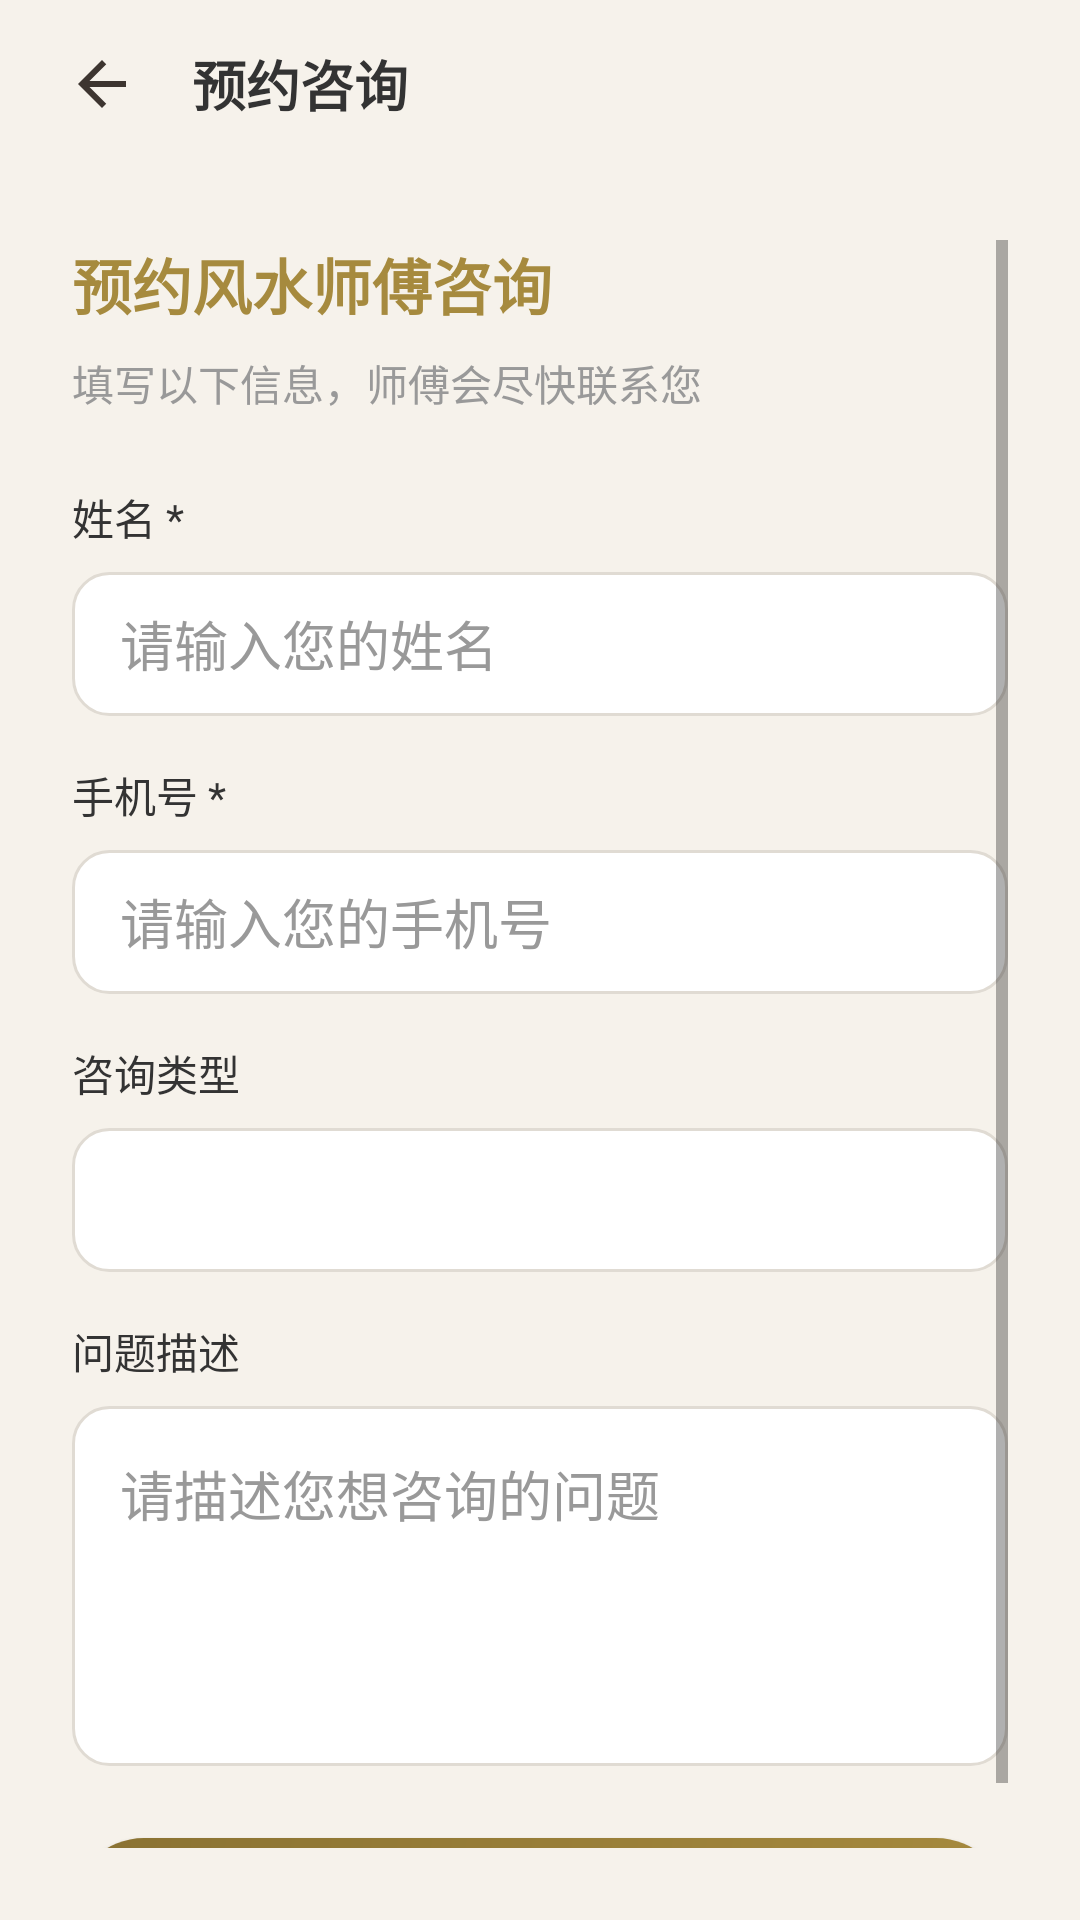

Where to tap for icons on this 1080 x 1920 app screen, as (x,y):
返回: (102,84)
